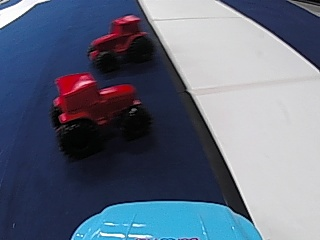tractor: (46, 64, 146, 157), (85, 14, 150, 73)
